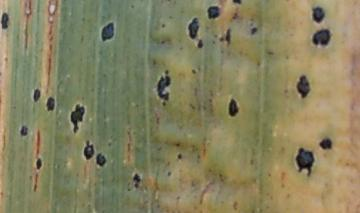tarspot: (153, 67, 176, 109), (294, 144, 315, 177), (68, 100, 86, 135), (309, 27, 333, 48), (296, 70, 312, 100), (224, 95, 242, 119), (99, 19, 115, 44), (308, 3, 326, 25), (129, 168, 144, 194), (79, 140, 95, 161), (205, 3, 222, 22), (186, 15, 199, 39), (220, 27, 233, 50), (29, 85, 43, 104), (95, 150, 109, 169), (317, 136, 333, 152), (245, 23, 261, 38), (43, 95, 56, 113), (1, 11, 10, 34), (18, 123, 29, 138), (33, 155, 44, 170), (174, 151, 185, 163), (196, 39, 206, 52), (228, 1, 246, 7)
